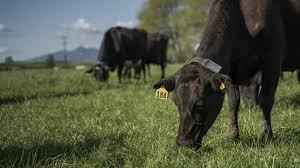cow: (155, 3, 300, 149), (89, 27, 168, 80)
